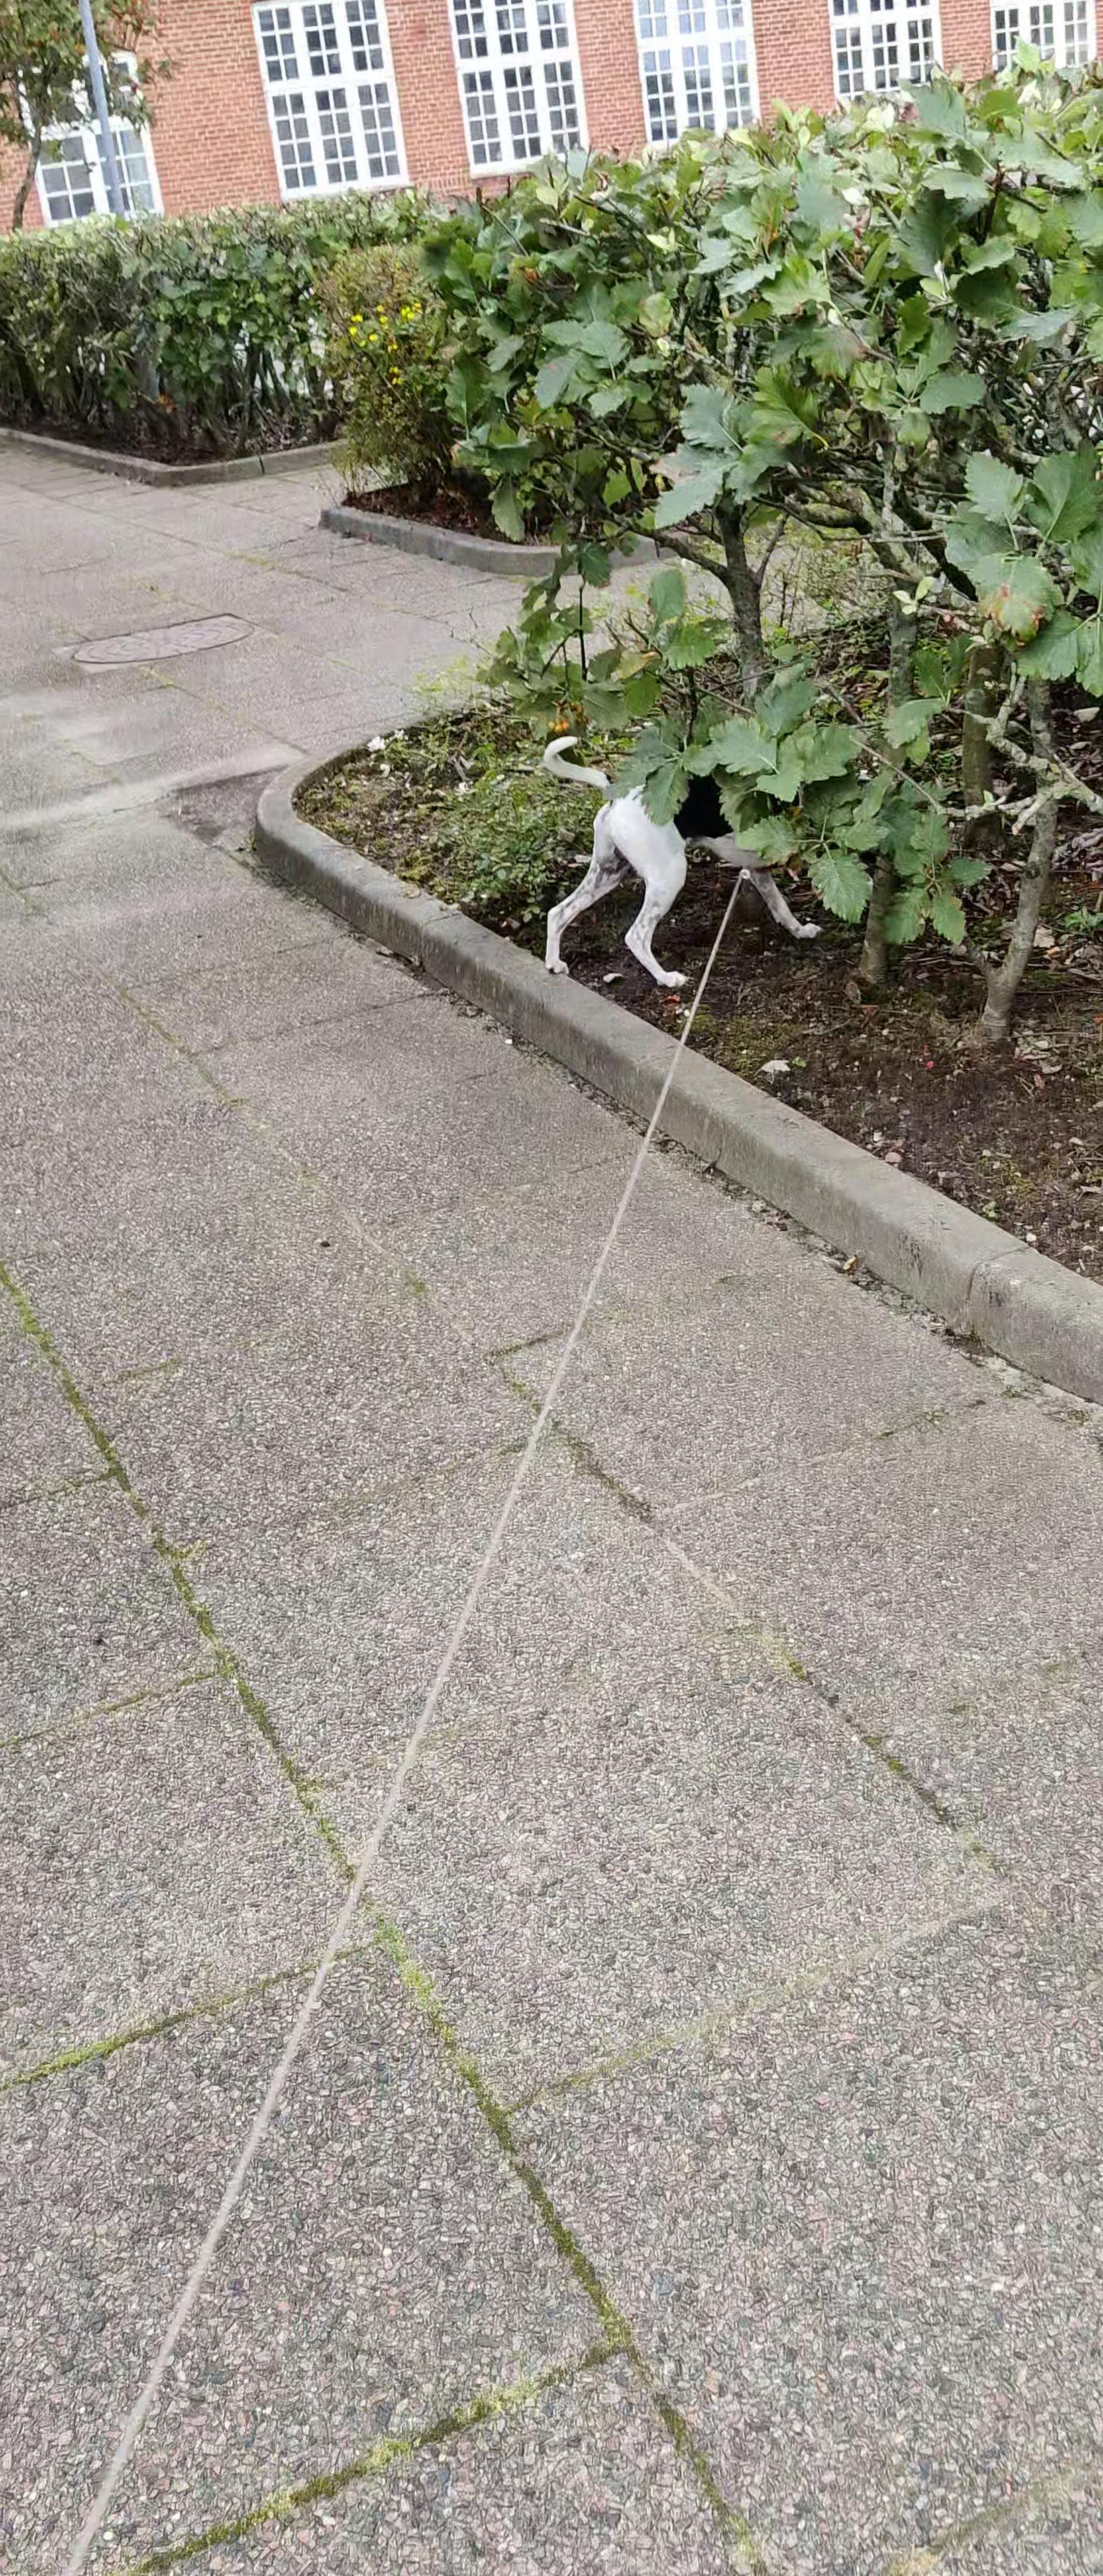Dog: (533, 726, 825, 991)
